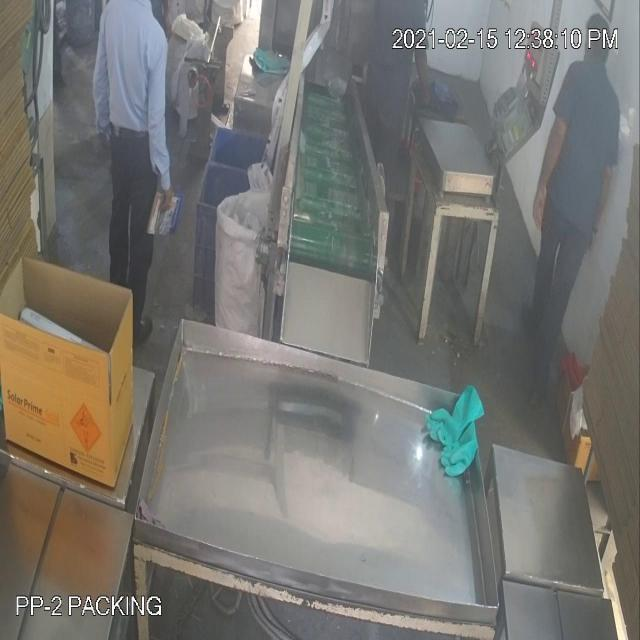No_Gloves: (22, 74, 604, 208)
